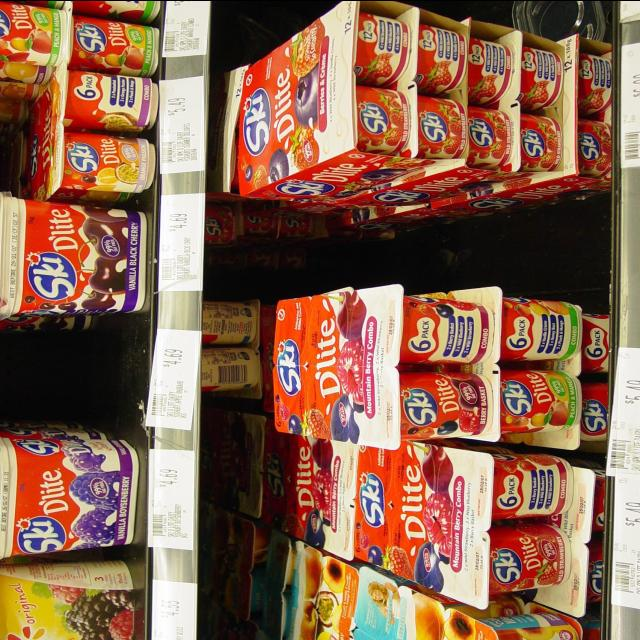empty_space: (8, 326, 143, 429), (377, 225, 614, 283)
